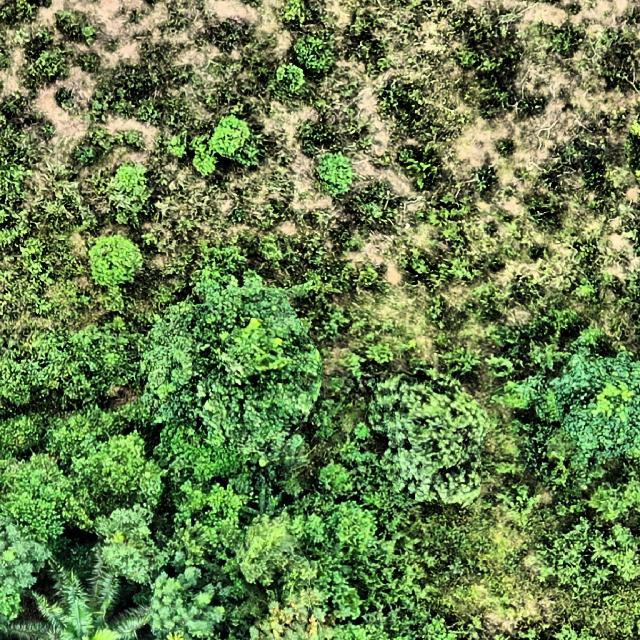Kelapa_Sawit: (10, 561, 160, 640)
